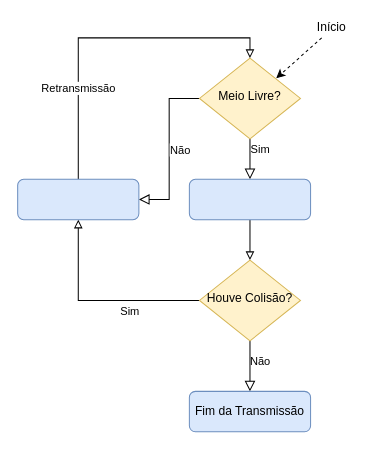
Image size: 370x449. Some labels were removed from this diagram. Here are the shapes that lost their labels. From the top down, the centre of each, then its label:
the point at 78,199: Aguarda Backoff Aleatório
the point at 249,199: Transmite o Quadro
